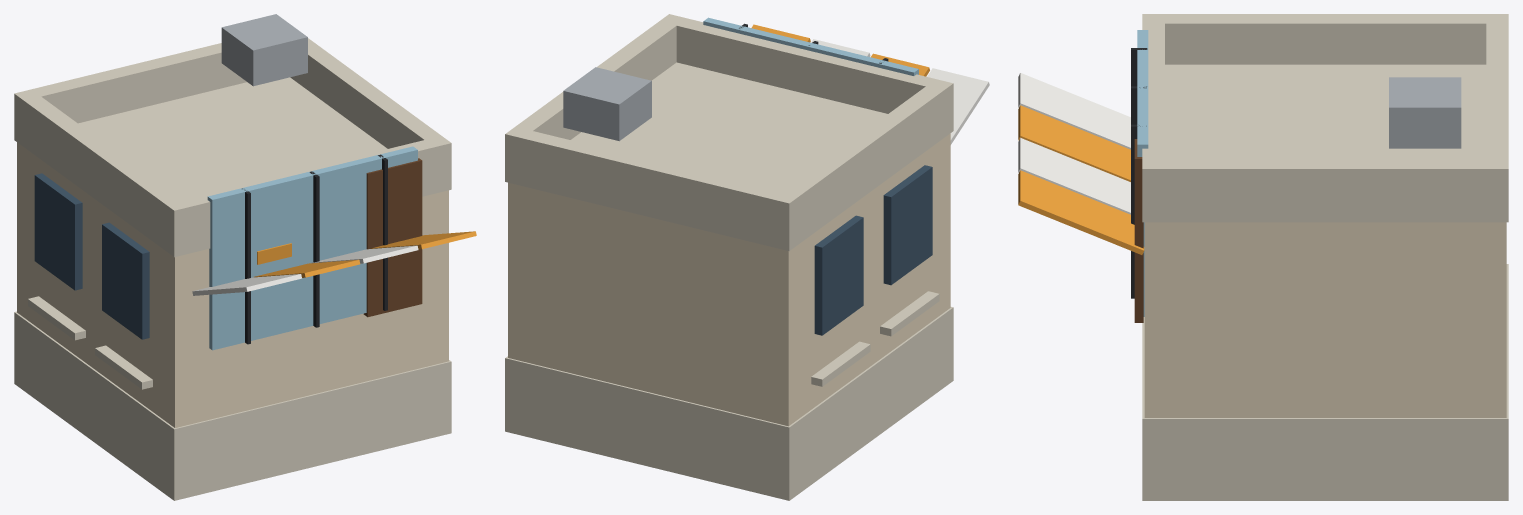
Rendered from building.shop-bakery.glb.
The picture shows the model from 3 angles, left to right: view 1: azimuth 30°, elevation 25°; view 2: azimuth 150°, elevation 25°; view 3: azimuth 270°, elevation 25°; orthographic projection. The views are drawn at different scales.
Parts seen in each view (by area): view 1: building.shop-bakery; view 2: building.shop-bakery; view 3: building.shop-bakery.
Boxes of the visible parts, x1,y1,x2,y2 form: building.shop-bakery: (14, 14, 476, 500); building.shop-bakery: (505, 14, 989, 500); building.shop-bakery: (1018, 14, 1508, 500).
Bounding box in the file's own units: 4.18 × 4.55 × 5.42.
